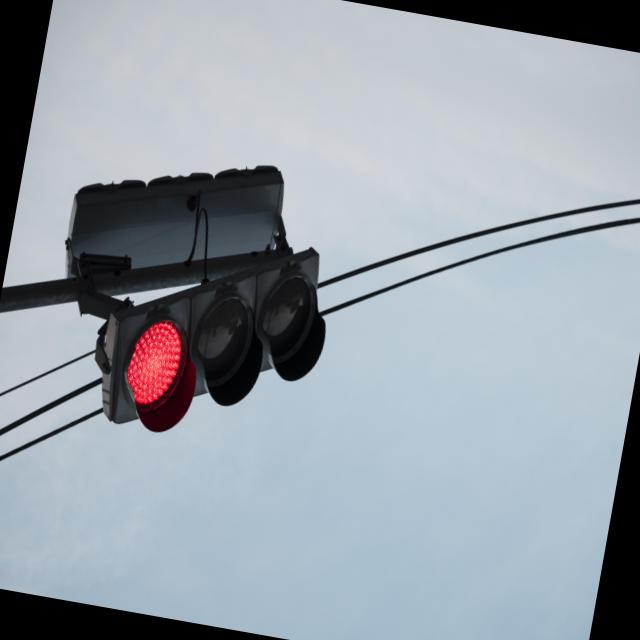red-lights: (104, 311, 212, 443)
